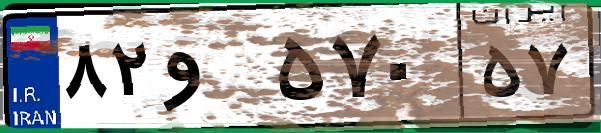0: (385, 28, 445, 110)
2: (110, 28, 158, 98)
5: (270, 28, 330, 110), (475, 38, 525, 113)
7: (330, 28, 385, 110), (525, 38, 570, 115)
8: (57, 26, 110, 100)
و: (158, 20, 270, 120)
